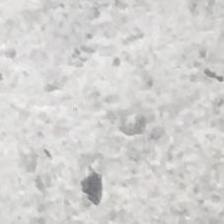Non_Crack: (21, 26, 224, 196)
